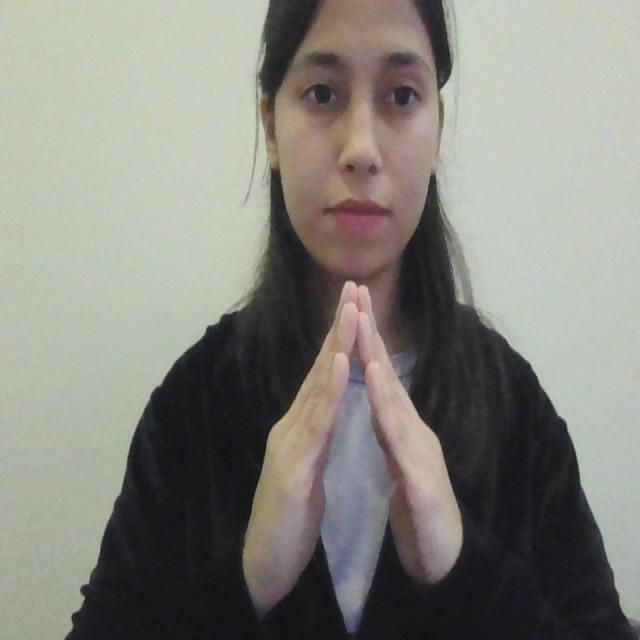Ev: (234, 276, 472, 626)
